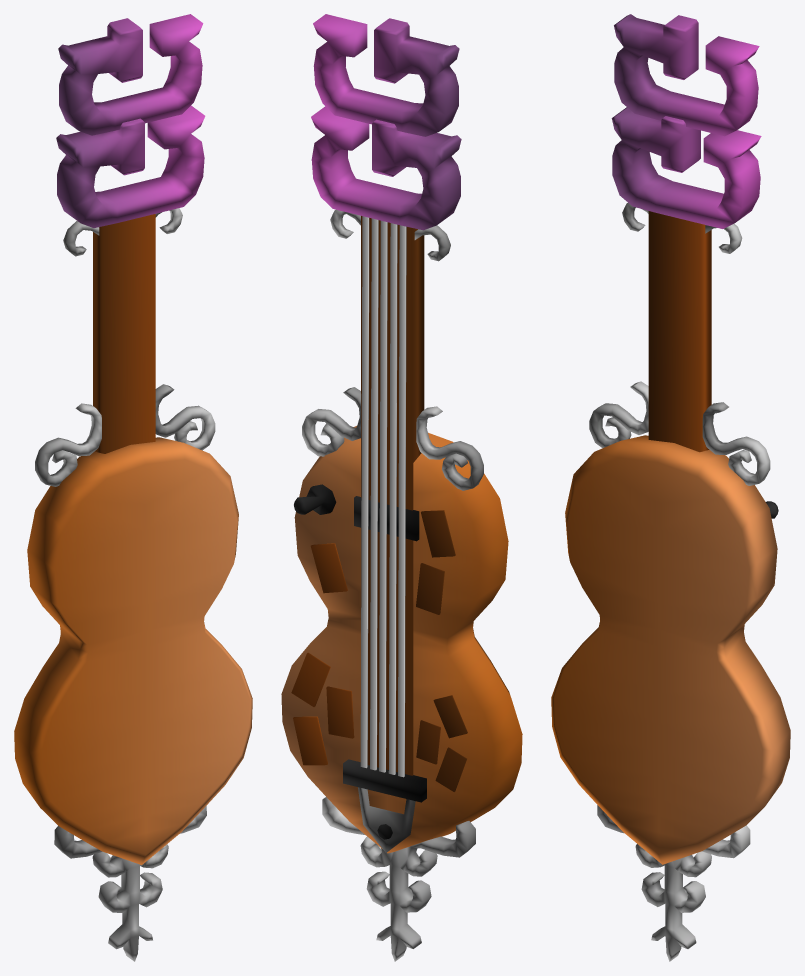
File: Guitar.obj
3 views of the same model, side by side, from view 1: azimuth 30°, elevation 25°; view 2: azimuth 150°, elevation 25°; view 3: azimuth 330°, elevation 25° (orthographic).
Visible parts, largest first — view 1: Handle1; view 2: Handle1; view 3: Handle1.
Part boxes in pixels (left/top/right/bottom): Handle1: left=14, top=14, right=252, bottom=961; Handle1: left=281, top=14, right=522, bottom=961; Handle1: left=551, top=14, right=790, bottom=961.
Size of the model in its own units: 0.9788 by 3.92 by 0.3252.
1 material, 1 textured.
